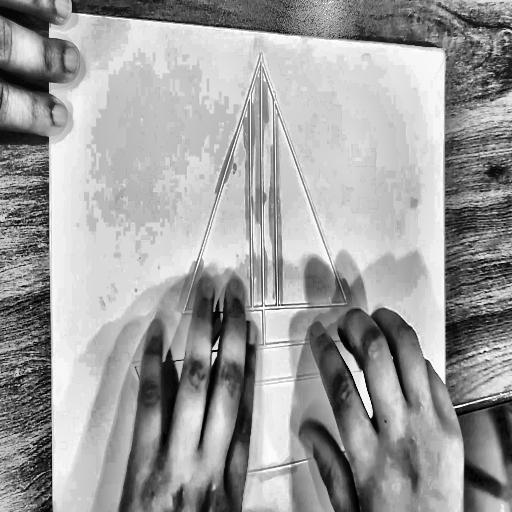boat: (123, 28, 398, 489)
top_left: (45, 3, 56, 23)
top_right: (440, 44, 450, 60)
